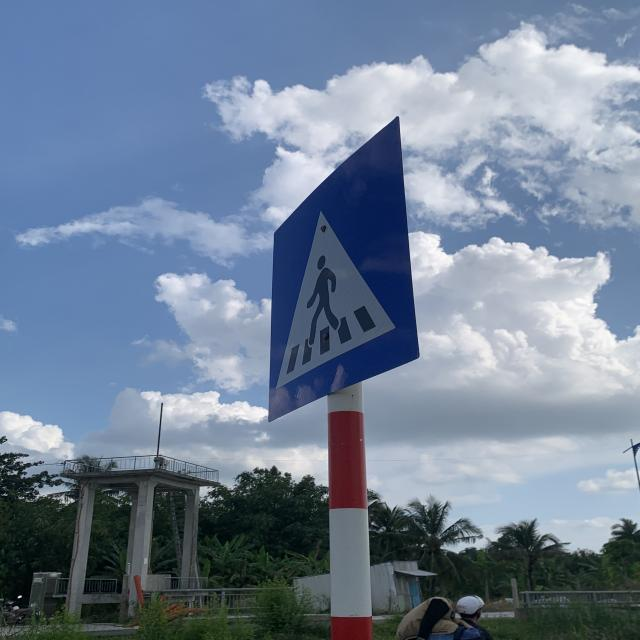Giao_Nhau_Duong_Uu_Tien: (270, 116, 417, 423)
